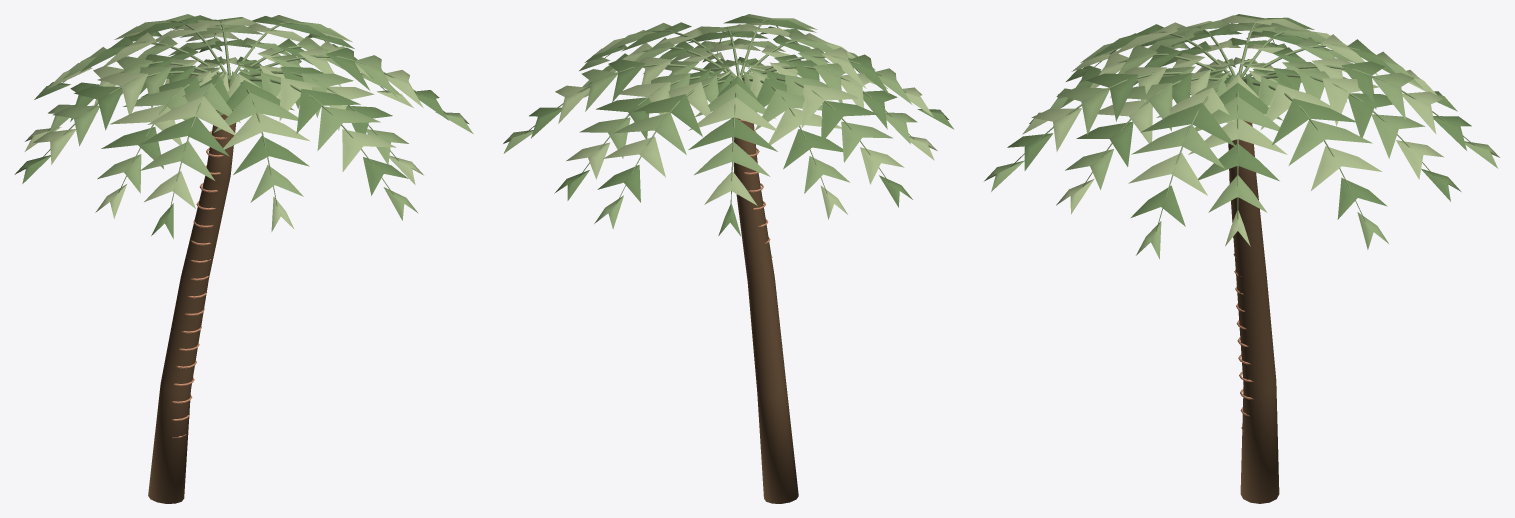
File: harbour_palm.glb
3 views of the same model, side by side, from view 1: azimuth 30°, elevation 25°; view 2: azimuth 150°, elevation 25°; view 3: azimuth 270°, elevation 25° (orthographic). The views are drawn at different scales.
Visible parts, largest first — view 1: HarbourPalm_Geometry; view 2: HarbourPalm_Geometry; view 3: HarbourPalm_Geometry.
Part boxes in pixels (x1,y1,x2,y2): HarbourPalm_Geometry: (14, 14, 473, 503); HarbourPalm_Geometry: (503, 14, 954, 503); HarbourPalm_Geometry: (984, 14, 1499, 503).
Bounding box in the file's own units: 5.78 × 6.05 × 6.09.
